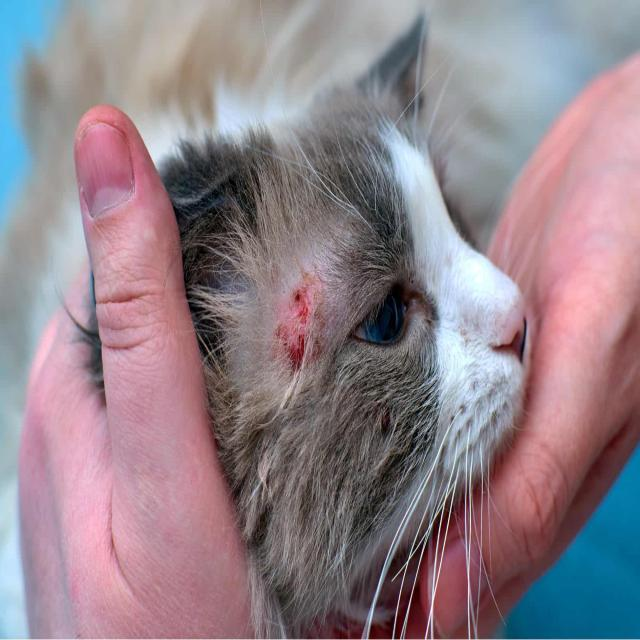hac lao: (250, 256, 348, 404)
